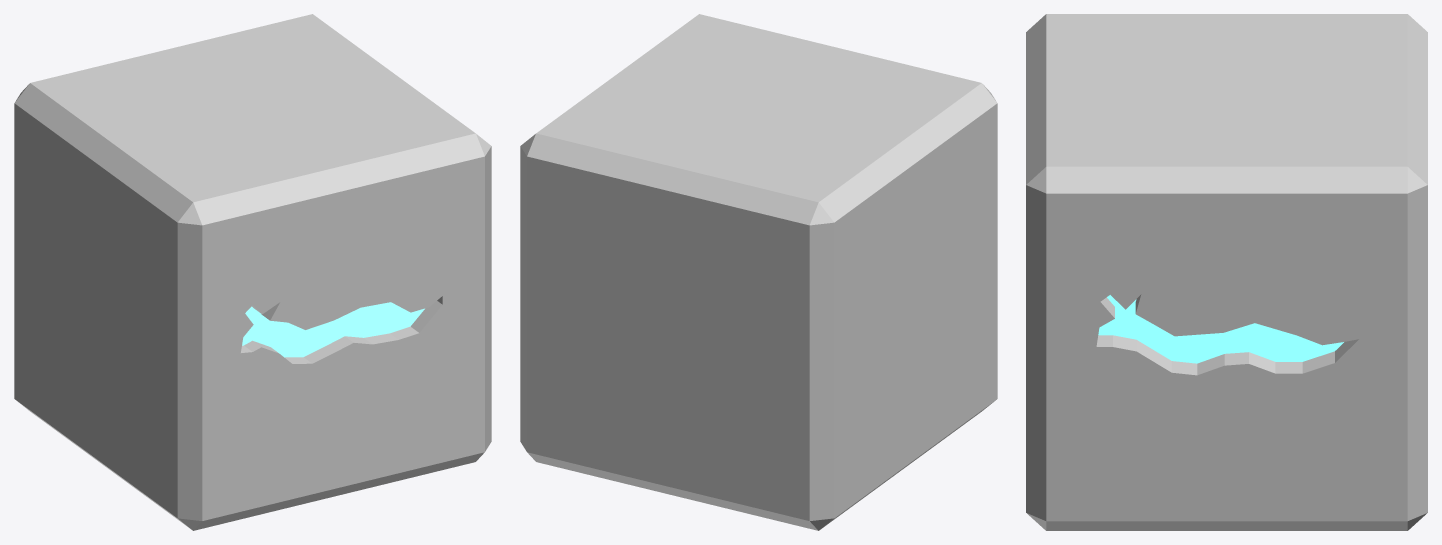
The model's file is Kupsolucan.fbx.
3 renders of one model, left to right at view 1: azimuth 30°, elevation 25°; view 2: azimuth 150°, elevation 25°; view 3: azimuth 270°, elevation 25°, orthographic. The views are drawn at different scales.
Parts seen in each view (by area): view 1: Cube.004; view 2: Cube.004; view 3: Cube.004.
Boxes of the visible parts, x1,y1,x2,y2 form: Cube.004: (14, 14, 491, 530); Cube.004: (520, 14, 997, 530); Cube.004: (1026, 14, 1427, 530).
Bounding box in the file's own units: 119 × 119 × 119.
